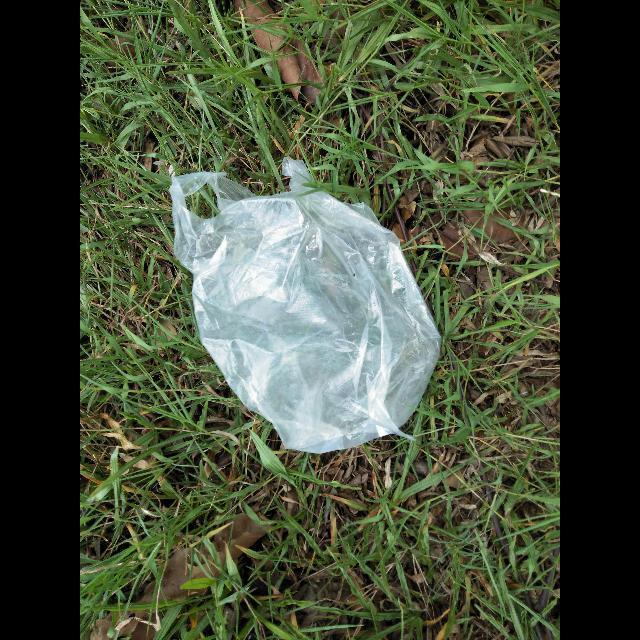Plastic: (169, 156, 441, 454)
